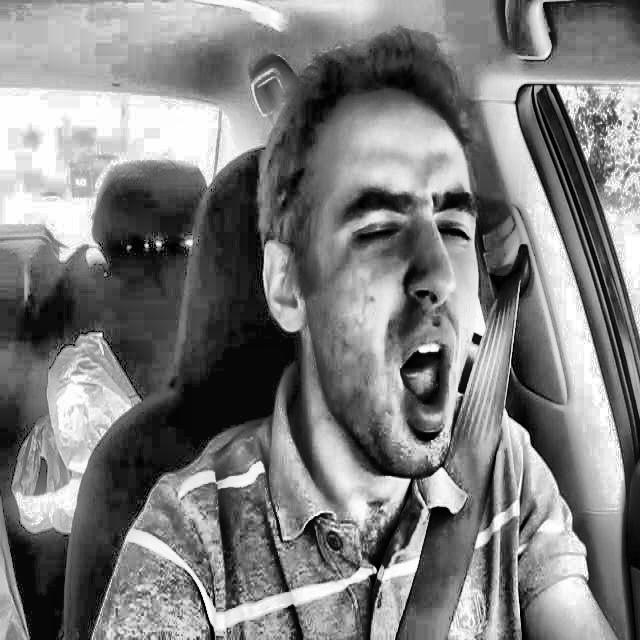closed_eyes: (326, 209, 406, 260), (431, 206, 484, 257)
open_mouth: (384, 314, 469, 449)
